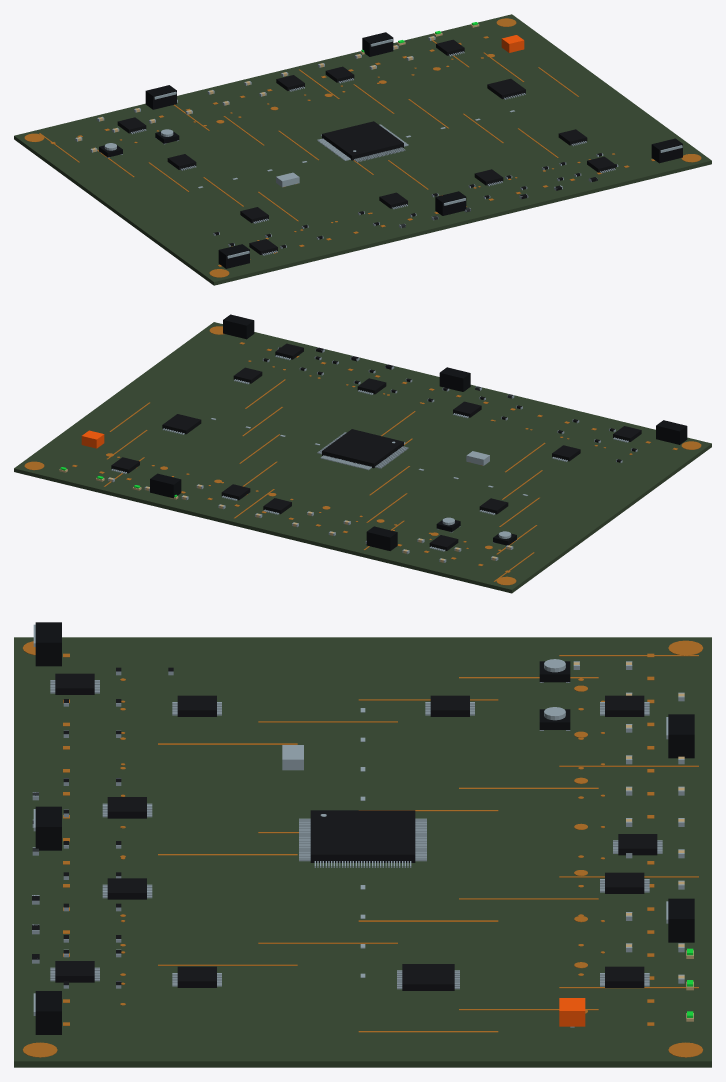
Rendered from L101_MLX9_Assembled_Reference.fbx.
3 renders of one model, top to bottom at view 1: azimuth 30°, elevation 25°; view 2: azimuth 150°, elevation 25°; view 3: azimuth 270°, elevation 25°, orthographic. The views are drawn at different scales.
Visible parts, largest first — view 1: L101_PCB_FR4_Core_FR4_6Layer_Dielectric, L101_U1_Molded_144Pin_QFP_Body, L101_J1_Connector_Shell, L101_J2_Connector_Shell, L101_J5_Connector_Shell, L101_J4_Connector_Shell, L101_J3_Connector_Shell, L101_U3_Epoxy_Package; view 2: L101_PCB_FR4_Core_FR4_6Layer_Dielectric, L101_U1_Molded_144Pin_QFP_Body, L101_J1_Connector_Shell, L101_J2_Connector_Shell, L101_J3_Connector_Shell, L101_J5_Connector_Shell, L101_J4_Connector_Shell, L101_U3_Epoxy_Package; view 3: L101_PCB_FR4_Core_FR4_6Layer_Dielectric, L101_U1_Molded_144Pin_QFP_Body, L101_U3_Epoxy_Package, L101_J4_Connector_Shell, L101_J1_Connector_Shell, L101_J3_Connector_Shell, L101_J2_Connector_Shell, L101_J5_Connector_Shell, L101_U9_Epoxy_Package, L101_U10_Epoxy_Package, L101_U13_Epoxy_Package, L101_U2_Epoxy_Package (+8 smaller).
Boxes of the visible parts, left/top/right/bottom form: L101_PCB_FR4_Core_FR4_6Layer_Dielectric: left=14, top=14, right=711, bottom=285; L101_U1_Molded_144Pin_QFP_Body: left=322, top=121, right=403, bottom=160; L101_J1_Connector_Shell: left=218, top=244, right=249, bottom=268; L101_J2_Connector_Shell: left=145, top=85, right=176, bottom=109; L101_J5_Connector_Shell: left=651, top=138, right=682, bottom=163; L101_J4_Connector_Shell: left=362, top=32, right=393, bottom=56; L101_J3_Connector_Shell: left=435, top=191, right=466, bottom=215; L101_U3_Epoxy_Package: left=487, top=78, right=525, bottom=99; L101_PCB_FR4_Core_FR4_6Layer_Dielectric: left=14, top=322, right=711, bottom=593; L101_U1_Molded_144Pin_QFP_Body: left=322, top=429, right=403, bottom=468; L101_J1_Connector_Shell: left=656, top=420, right=687, bottom=444; L101_J2_Connector_Shell: left=366, top=526, right=397, bottom=550; L101_J3_Connector_Shell: left=439, top=367, right=470, bottom=391; L101_J5_Connector_Shell: left=223, top=314, right=254, bottom=339; L101_J4_Connector_Shell: left=150, top=473, right=181, bottom=498; L101_U3_Epoxy_Package: left=162, top=414, right=201, bottom=434; L101_PCB_FR4_Core_FR4_6Layer_Dielectric: left=14, top=637, right=711, bottom=1067; L101_U1_Molded_144Pin_QFP_Body: left=310, top=810, right=415, bottom=862; L101_U3_Epoxy_Package: left=402, top=964, right=454, bottom=990; L101_J4_Connector_Shell: left=668, top=898, right=694, bottom=942; L101_J1_Connector_Shell: left=35, top=622, right=61, bottom=666; L101_J3_Connector_Shell: left=35, top=806, right=61, bottom=850; L101_J2_Connector_Shell: left=668, top=714, right=694, bottom=758; L101_J5_Connector_Shell: left=35, top=991, right=61, bottom=1034; L101_U9_Epoxy_Package: left=107, top=878, right=146, bottom=899; L101_U10_Epoxy_Package: left=107, top=797, right=146, bottom=818; L101_U13_Epoxy_Package: left=55, top=673, right=94, bottom=694; L101_U2_Epoxy_Package: left=177, top=966, right=216, bottom=987.
Size of the model in its own units: 23 by 0.95 by 16.
